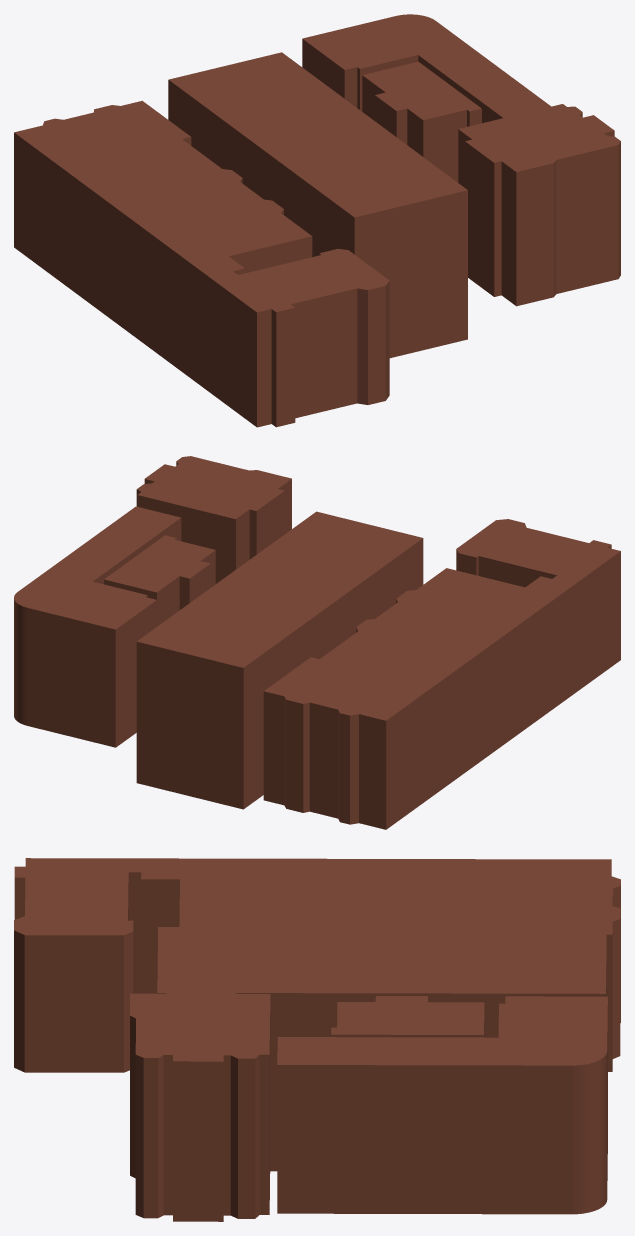
File: basic_buildings_633_2.fbx
3 views of the same model, one above another, from view 1: azimuth 30°, elevation 25°; view 2: azimuth 150°, elevation 25°; view 3: azimuth 270°, elevation 25° (orthographic). The views are drawn at different scales.
Parts seen in each view (by area): view 1: Model; view 2: Model; view 3: Model.
Boxes of the visible parts, bbox=[...] form: Model: bbox=[14, 14, 620, 427]; Model: bbox=[14, 456, 620, 829]; Model: bbox=[14, 858, 620, 1221].
Bounding box in the file's own units: 2526 × 958 × 2650.
